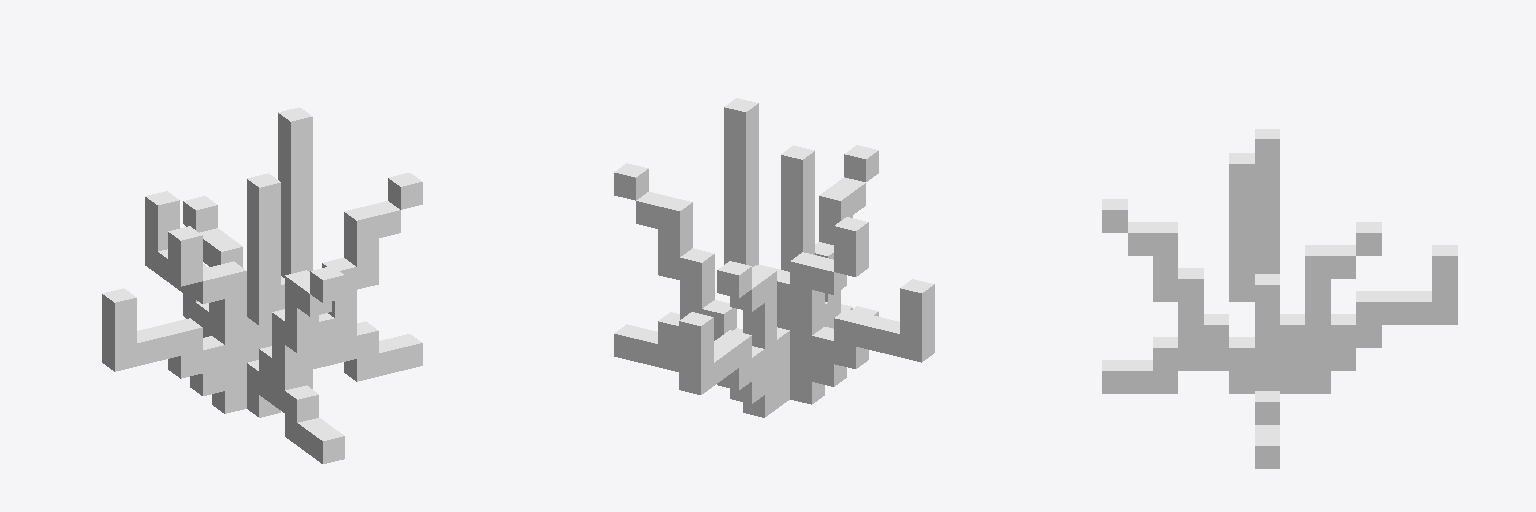
File: forest1.4-18.obj
The picture shows the model from 3 angles: view 1: azimuth 30°, elevation 25°; view 2: azimuth 150°, elevation 25°; view 3: azimuth 270°, elevation 25°; orthographic projection.
Parts seen in each view (by area): view 1: object 1; view 2: object 1; view 3: object 1.
Part boxes in pixels (x1,y1,x2,y2): object 1: (102, 107, 422, 463); object 1: (614, 98, 934, 417); object 1: (1102, 129, 1457, 468).
Size of the model in its own units: 2.8 by 2.4 by 2.8.